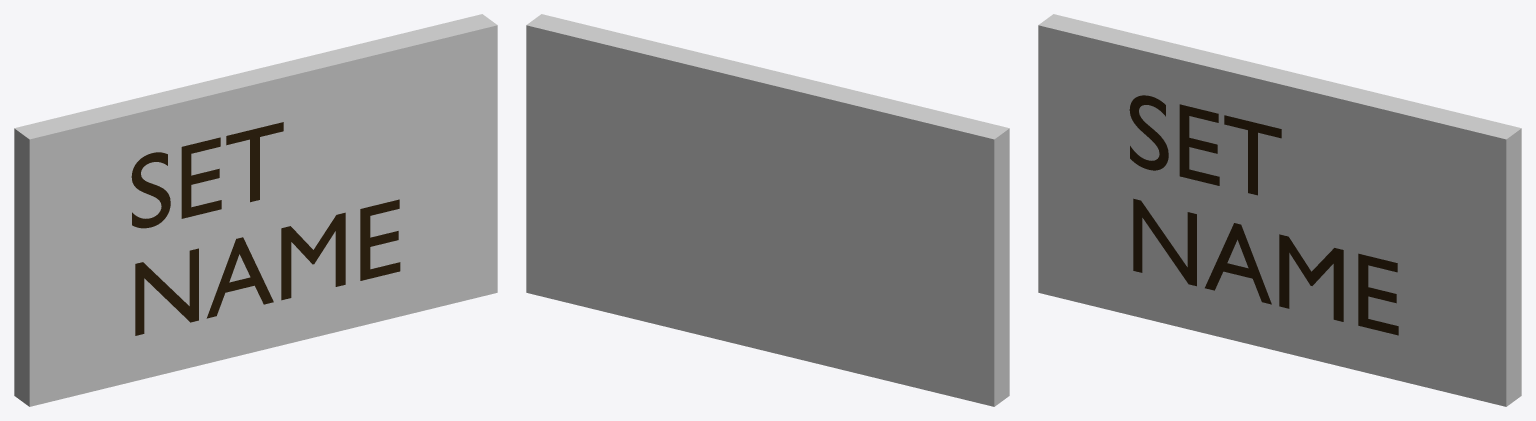
File: setName.gltf
The picture shows the model from 3 angles, left to right: view 1: azimuth 30°, elevation 25°; view 2: azimuth 150°, elevation 25°; view 3: azimuth 330°, elevation 25°; orthographic projection.
Visible parts, largest first — view 1: Cube.004, Text.001; view 2: Cube.004; view 3: Cube.004, Text.001.
Part boxes in pixels (x1=…): Cube.004: x1=14, y1=14, x2=497, y2=406; Text.001: x1=131, y1=122, x2=400, y2=335; Cube.004: x1=526, y1=14, x2=1009, y2=406; Cube.004: x1=1038, y1=14, x2=1521, y2=406; Text.001: x1=1129, y1=95, x2=1398, y2=335.
Size of the model in its own units: 0.2811 by 0.1535 by 0.0215.
